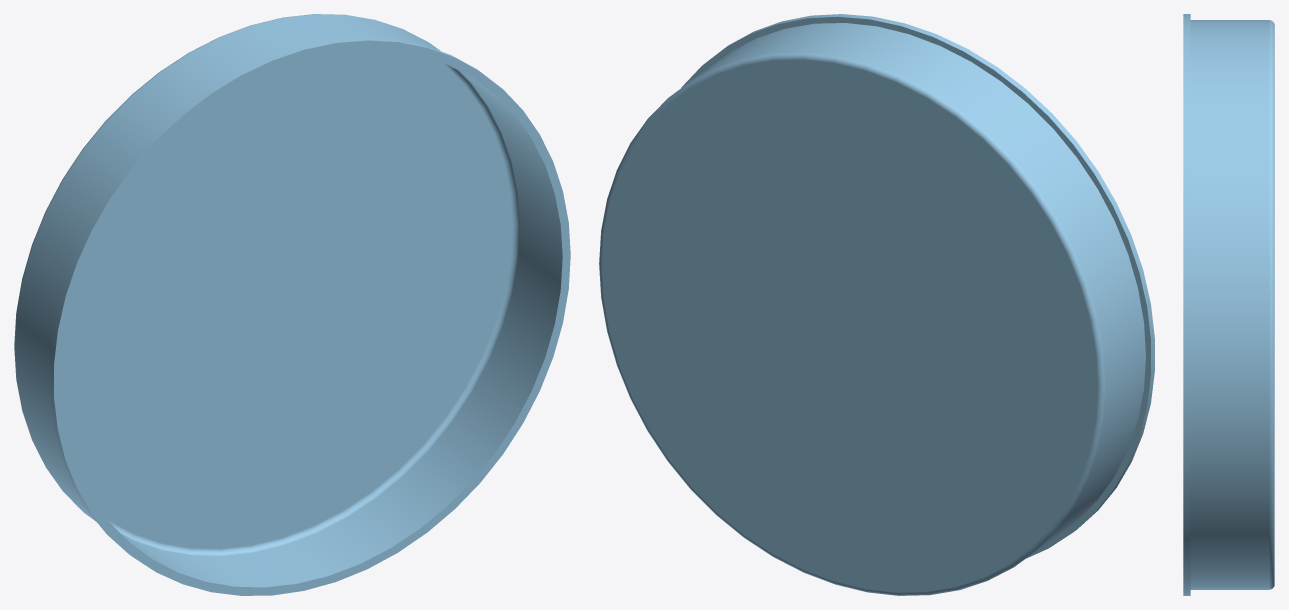
The model's file is 100_tapa_plastico.glb.
The picture shows the model from 3 angles, left to right: view 1: azimuth 30°, elevation 25°; view 2: azimuth 150°, elevation 25°; view 3: azimuth 270°, elevation 25°; orthographic projection. The views are drawn at different scales.
Visible parts, largest first — view 1: Part 1; view 2: Part 1; view 3: Part 1.
Boxes of the visible parts, <box> form: Part 1: <box>14,14,570,595</box>; Part 1: <box>599,14,1154,595</box>; Part 1: <box>1183,14,1274,595</box>.
Size of the model in its own units: 0.1026 by 0.1027 by 0.0162.
